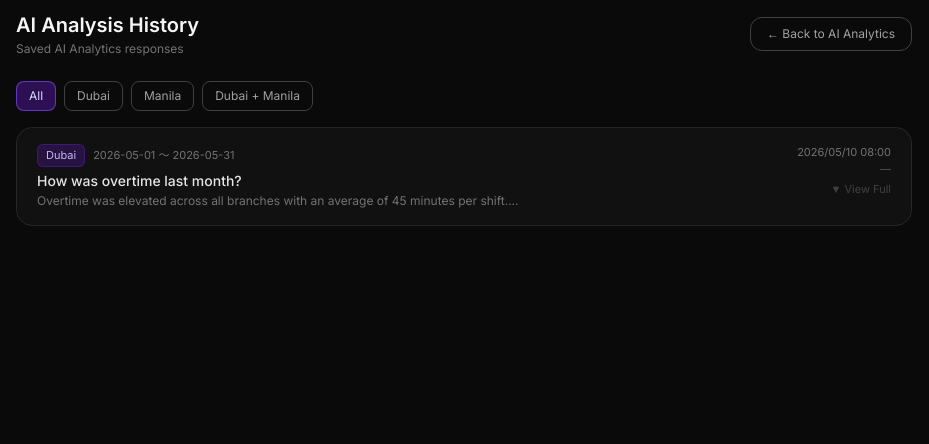
AiHistoryPage › shows fallback dash when saved_by is empty
Check: the text "How was overtime last month?" is shown, box [37,172,242,188]
Click the 5th button: (61,155) [17,128,911,224]
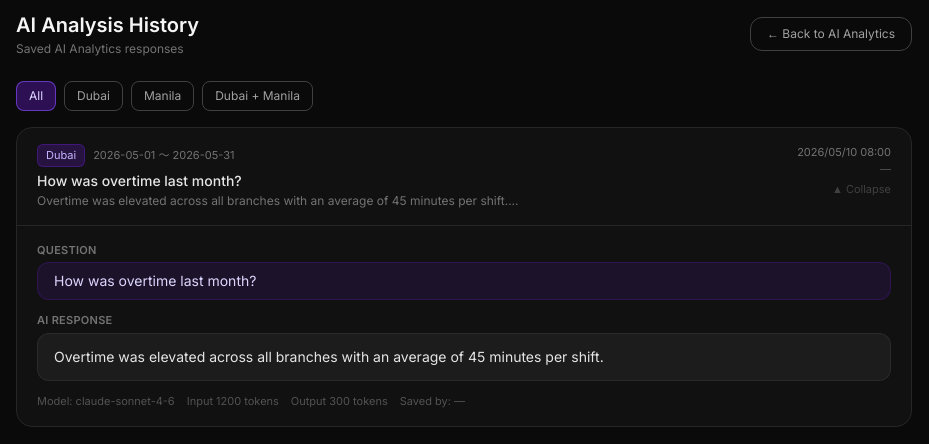
Check: the text "—" is shown, box [880,162,891,176]
Check: the text "Saved by: —" is shown, box [400,393,465,410]
